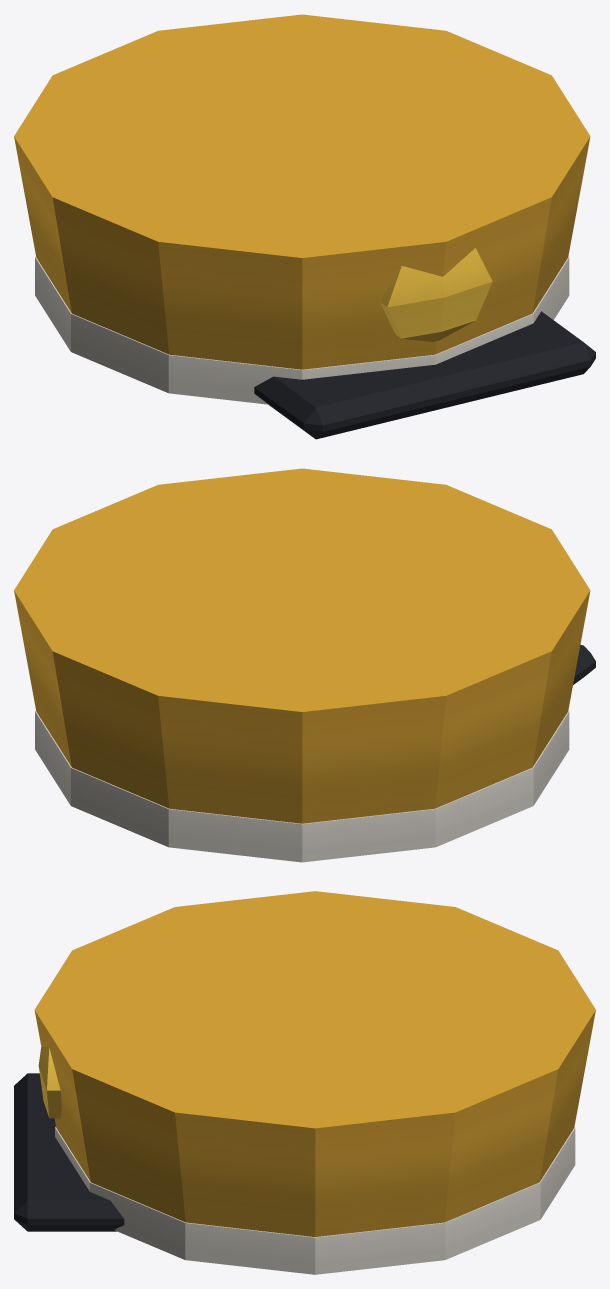
The model's file is Quepe_Dourado.glb.
The picture shows the model from 3 angles, top to bottom: view 1: azimuth 30°, elevation 25°; view 2: azimuth 150°, elevation 25°; view 3: azimuth 270°, elevation 25°; orthographic projection. The views are drawn at different scales.
Visible parts, largest first — view 1: Quepe_Malha; view 2: Quepe_Malha; view 3: Quepe_Malha.
Boxes of the visible parts, x1=… form: Quepe_Malha: x1=14, y1=14, x2=595, y2=439; Quepe_Malha: x1=14, y1=468, x2=595, y2=862; Quepe_Malha: x1=14, y1=891, x2=595, y2=1274.
Size of the model in its own units: 0.41 by 0.1275 by 0.425.
Materials: 1 (1 with a texture image).
